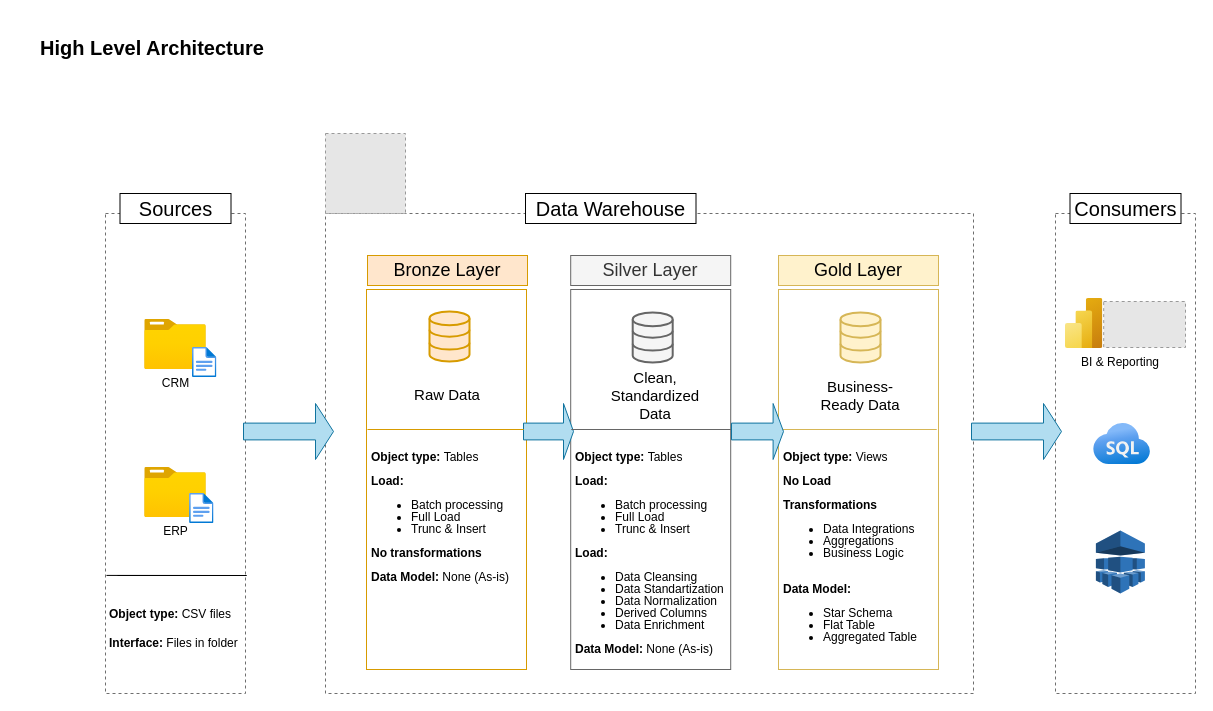
This 1213x711 diagram has some shape labels left out. Grey dashed boxes stand in for pictures. The shapes that lost their labels are listed below. From the top down, each one's centre as x and y in pixels, then its label:
the point at 1121,443: Ad-hoc SQL Queries
the point at 1120,562: Machine Learning
